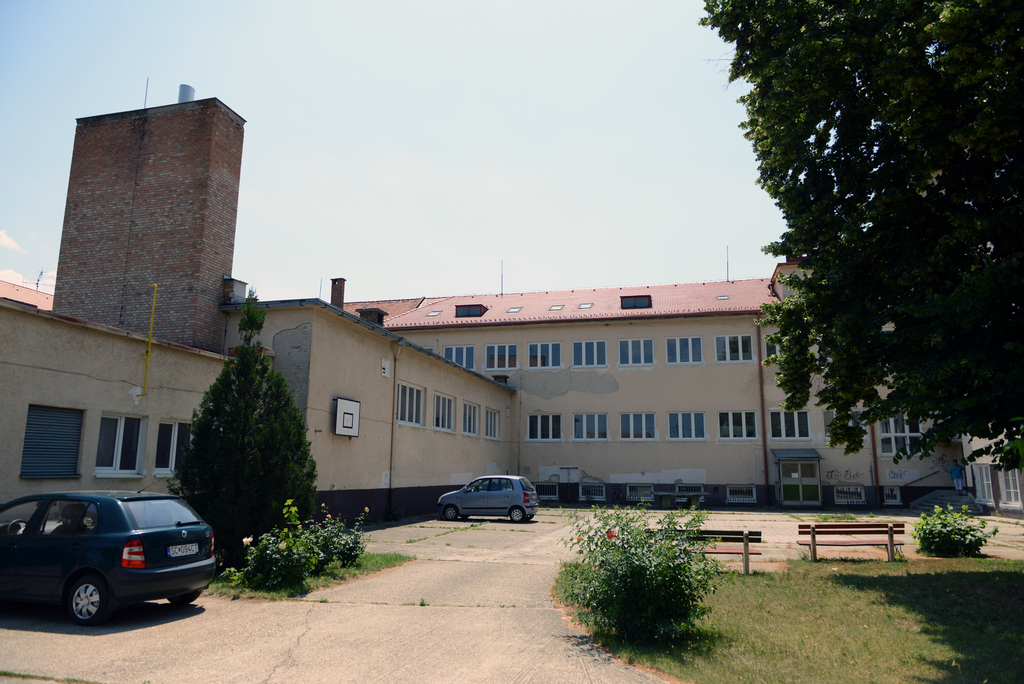cars: (0, 475, 218, 627), (435, 478, 536, 520)
